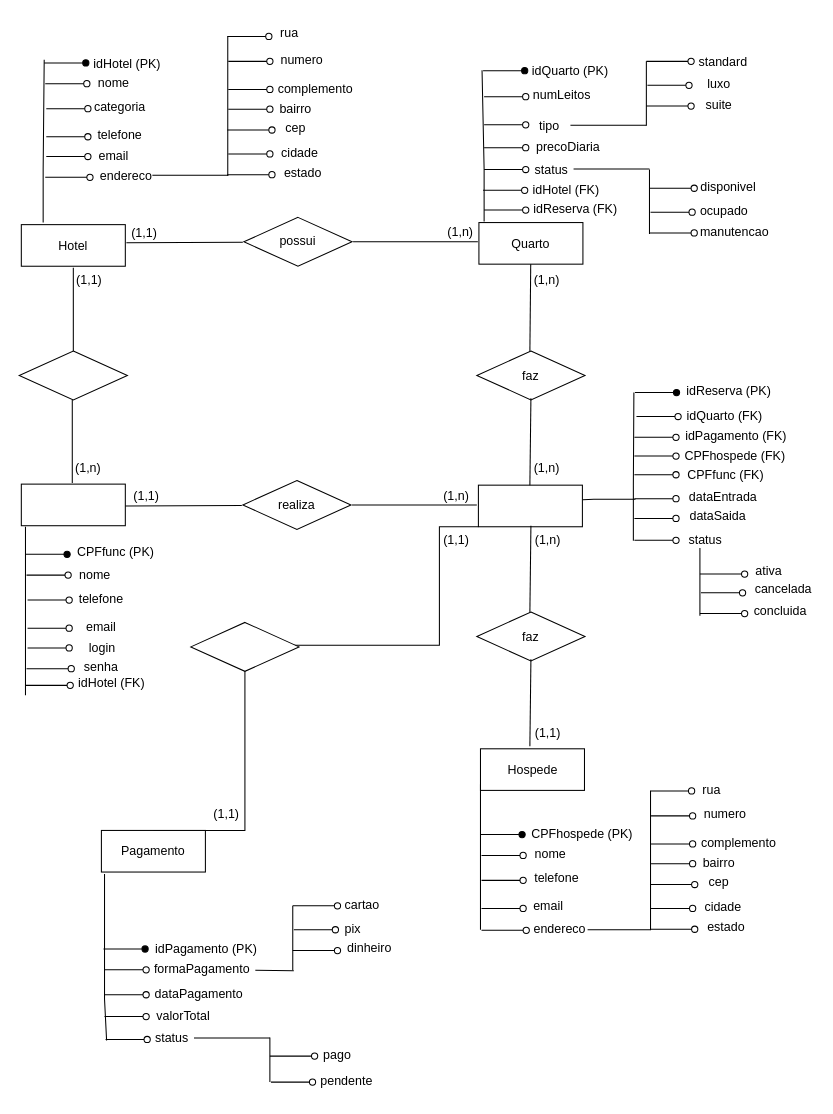
This 833x1114 diagram has some shape labels left out. The centre of each missing label's shape, as x and y in pixels:
Funcionario: [72,504]
gera: [244,646]
Reserva: [529,505]
trabalha: [72,375]
